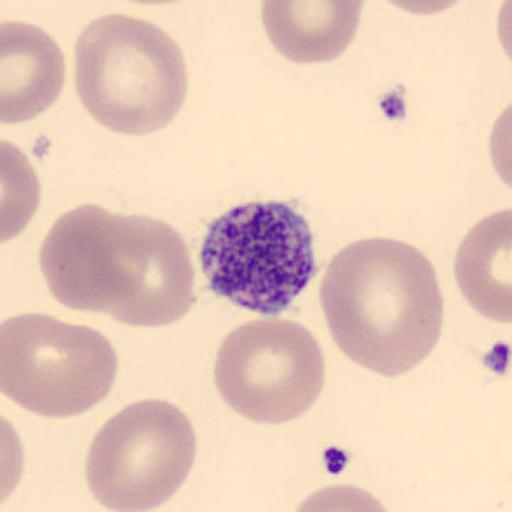Platelet: (195, 196, 323, 316)
RBC: (319, 235, 446, 379), (72, 11, 190, 139), (1, 310, 120, 422), (84, 396, 198, 512), (212, 316, 326, 426), (95, 212, 198, 330), (38, 203, 134, 313), (2, 18, 68, 126), (259, 0, 366, 66), (452, 206, 512, 323), (2, 140, 42, 244), (290, 482, 397, 512), (0, 413, 26, 511), (488, 98, 512, 194), (374, 0, 474, 17), (495, 0, 512, 69)
